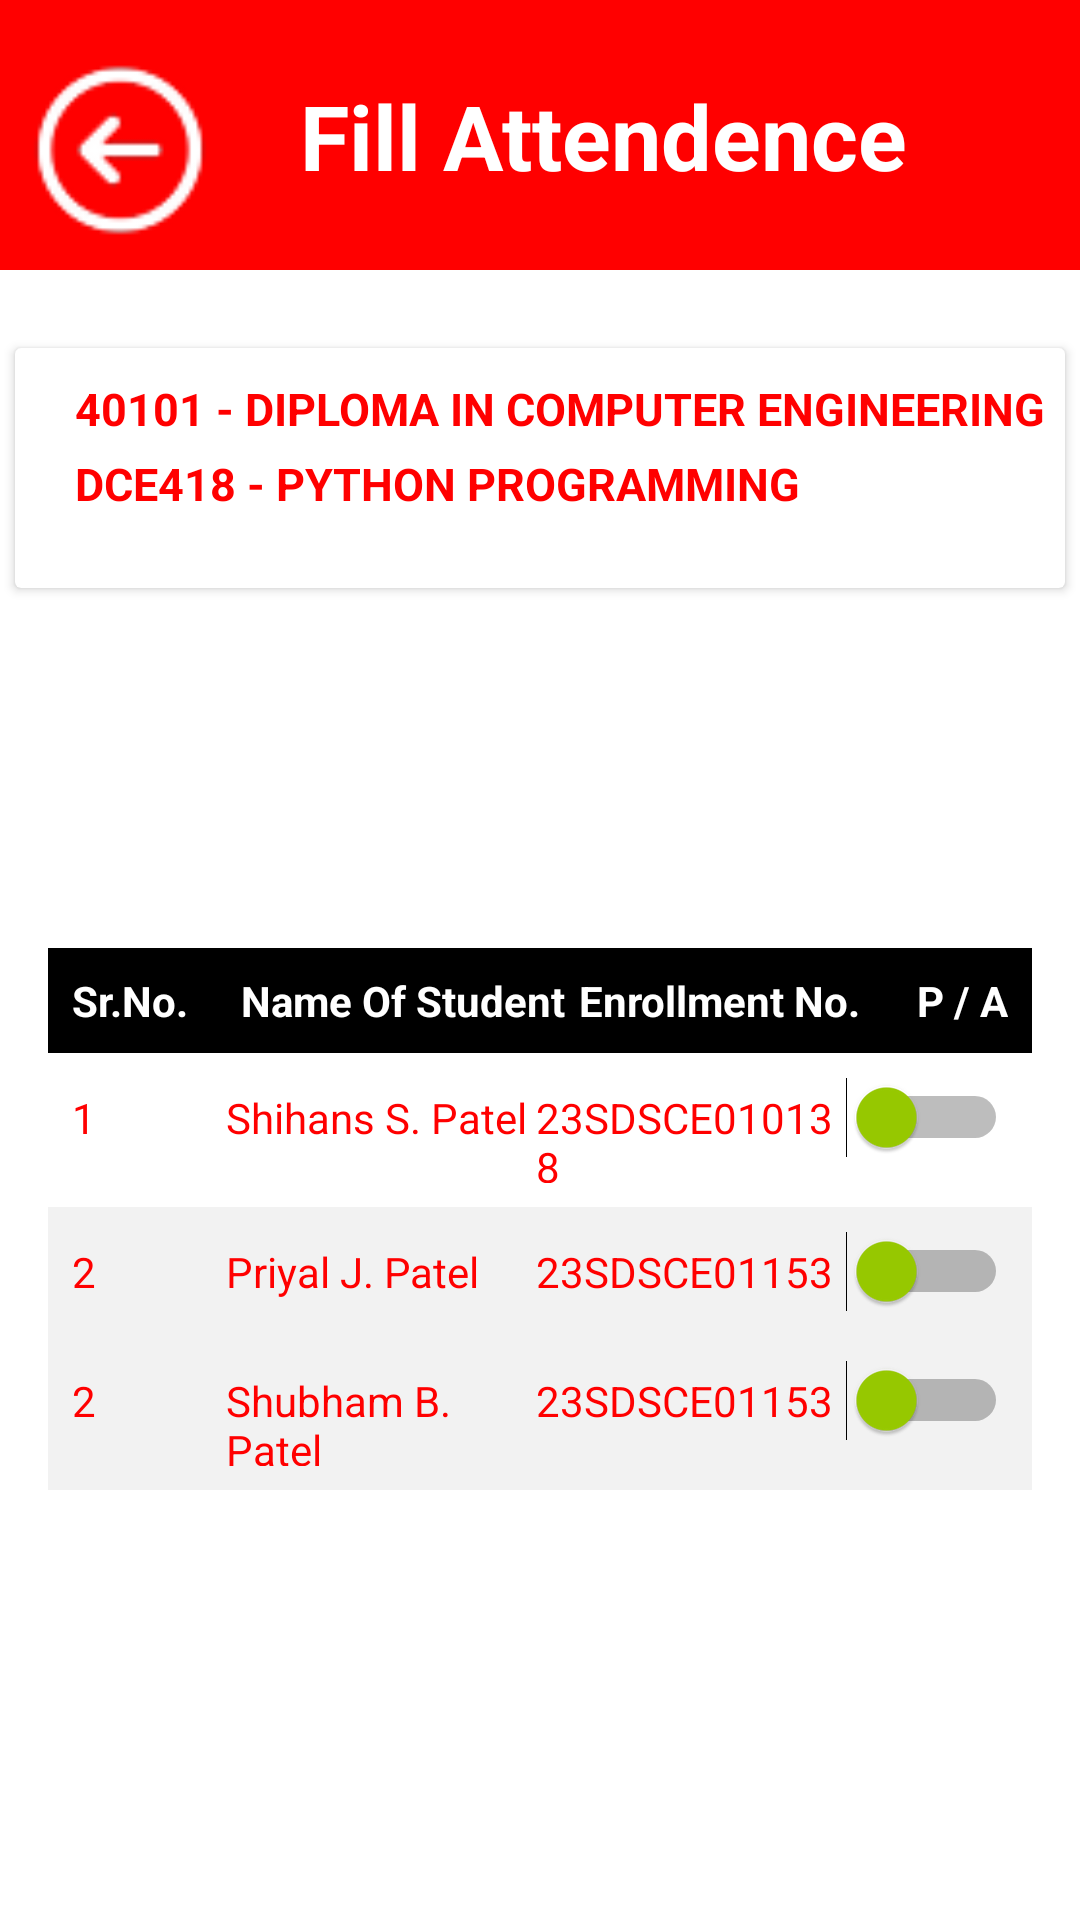

Screen size 1080 x 1920. Icon name, then its box in pixels as [left=x1, top=y1, right=x2, bottom=y2]:
back arrow: [left=36, top=66, right=204, bottom=234]
